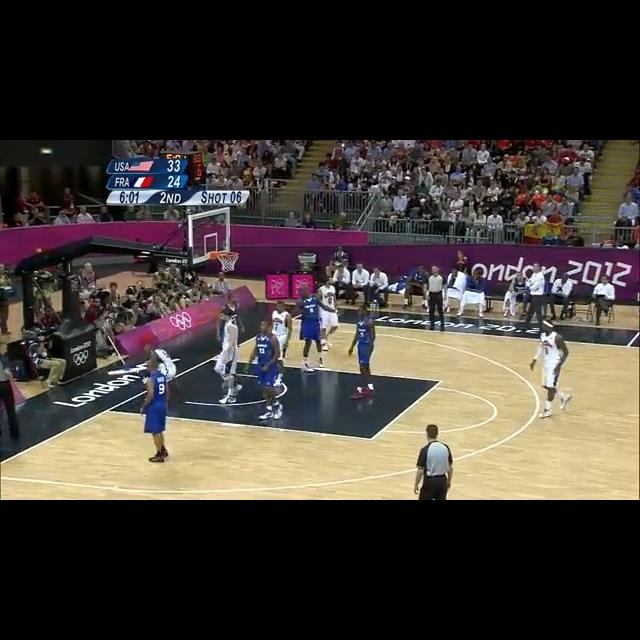hoop: (214, 250, 239, 270)
